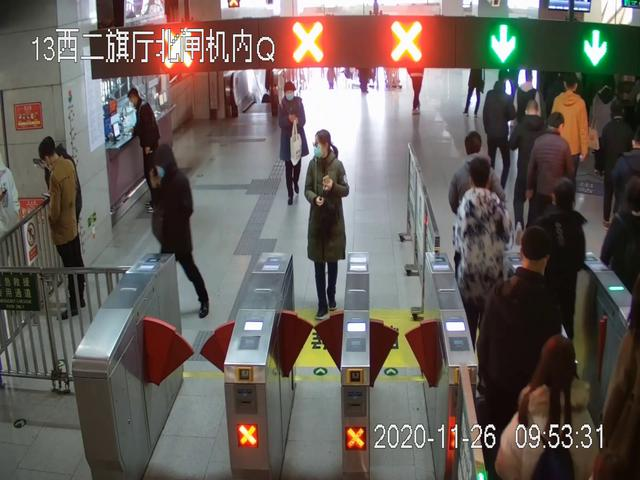person: (479, 225, 558, 472), (453, 157, 511, 360), (149, 146, 209, 318), (33, 137, 80, 320), (305, 130, 349, 320), (525, 113, 571, 254), (552, 73, 590, 219), (126, 87, 161, 209), (601, 101, 635, 225), (482, 68, 515, 195), (277, 80, 309, 205)
